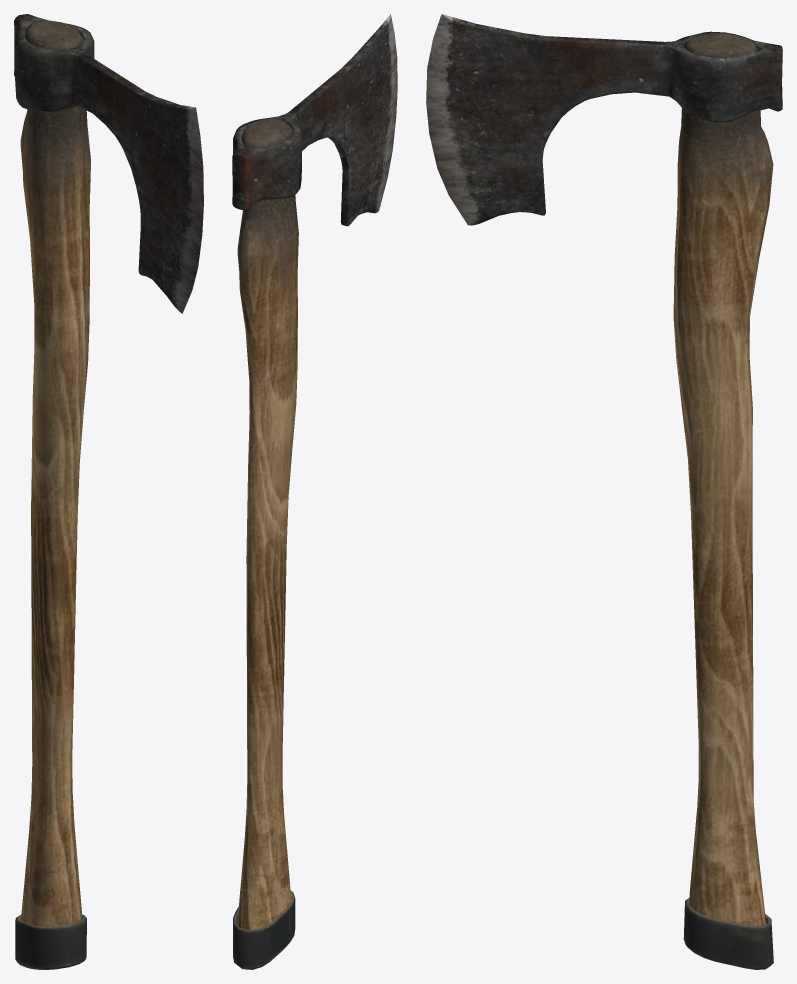
The model's file is wooden_axe.glb.
The picture shows the model from 3 angles, left to right: view 1: azimuth 30°, elevation 25°; view 2: azimuth 150°, elevation 25°; view 3: azimuth 270°, elevation 25°; orthographic projection. The views are drawn at different scales.
Visible parts, largest first — view 1: wooden_axe; view 2: wooden_axe; view 3: wooden_axe.
Boxes of the visible parts, x1=… form: wooden_axe: x1=14, y1=14, x2=203, y2=969; wooden_axe: x1=232, y1=14, x2=397, y2=969; wooden_axe: x1=426, y1=14, x2=782, y2=969.
Size of the model in its own units: 0.0472 by 0.6303 by 0.2142.
1 material, 1 textured.
